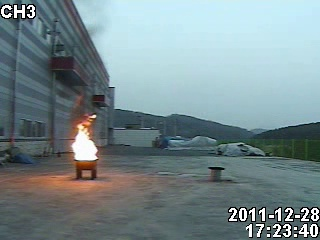fire: (65, 118, 97, 163)
